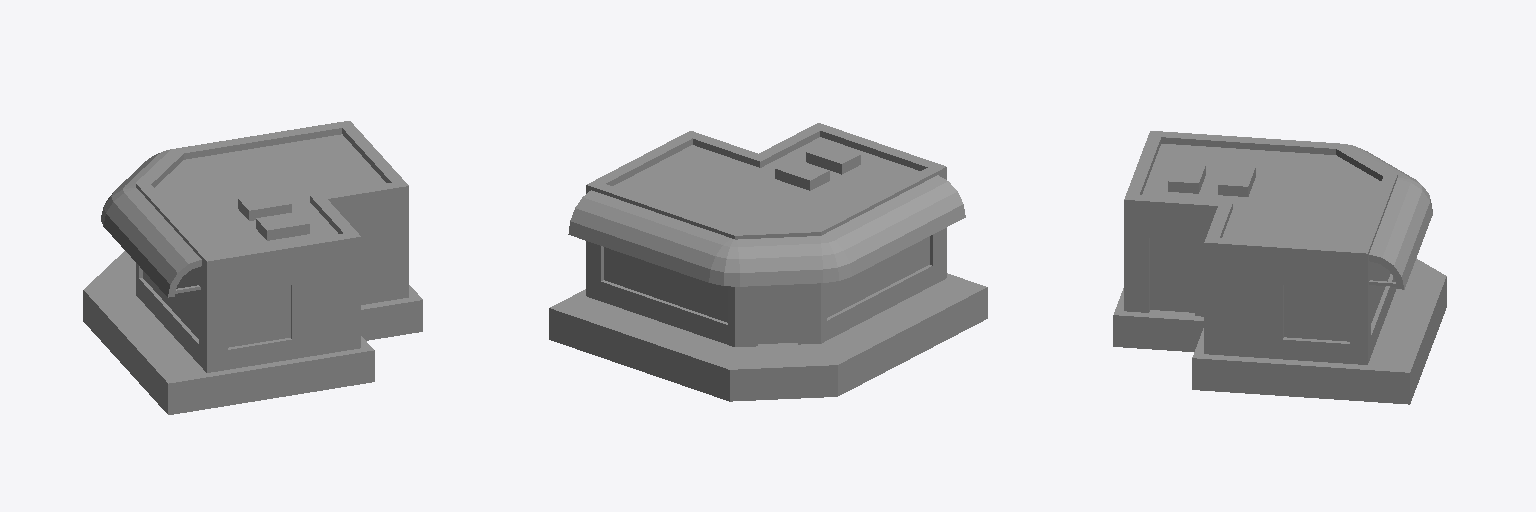
File: BuildingOBJ8.obj
3 renders of one model, left to right at view 1: azimuth 30°, elevation 25°; view 2: azimuth 150°, elevation 25°; view 3: azimuth 270°, elevation 25°, orthographic.
Parts seen in each view (by area): view 1: cabin_004.000_Untitled.010; view 2: cabin_004.000_Untitled.010; view 3: cabin_004.000_Untitled.010.
Part boxes in pixels (x1,y1,x2,y2): cabin_004.000_Untitled.010: (83, 121, 422, 414); cabin_004.000_Untitled.010: (549, 123, 987, 401); cabin_004.000_Untitled.010: (1113, 131, 1446, 404).
Bounding box in the file's own units: 3.37 × 1.55 × 3.17.